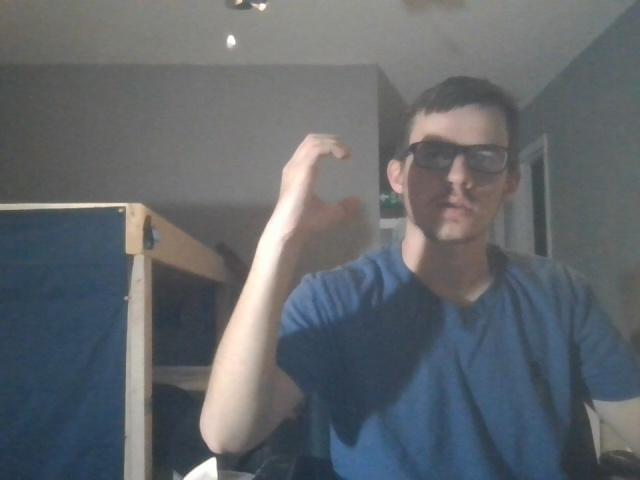C: (265, 125, 367, 236)
